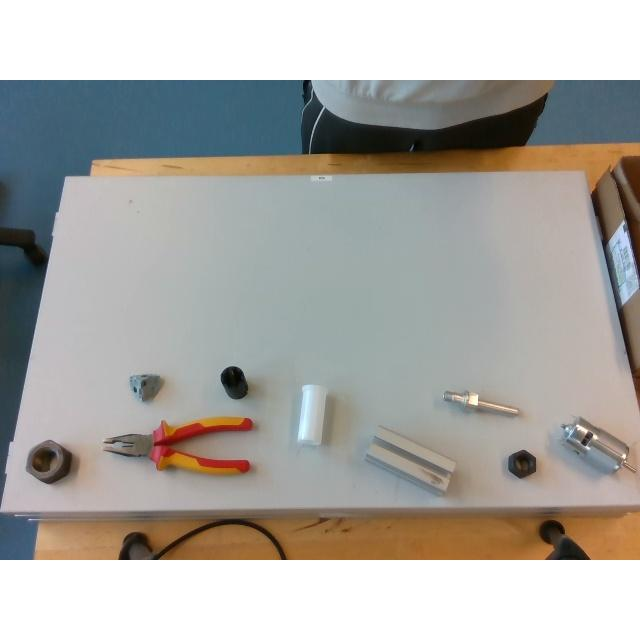M20: (506, 450, 536, 478)
M30: (24, 438, 72, 482)
Motor2: (562, 418, 638, 474)
S40_40_G: (365, 426, 455, 494)
Spacer: (298, 385, 326, 445)
